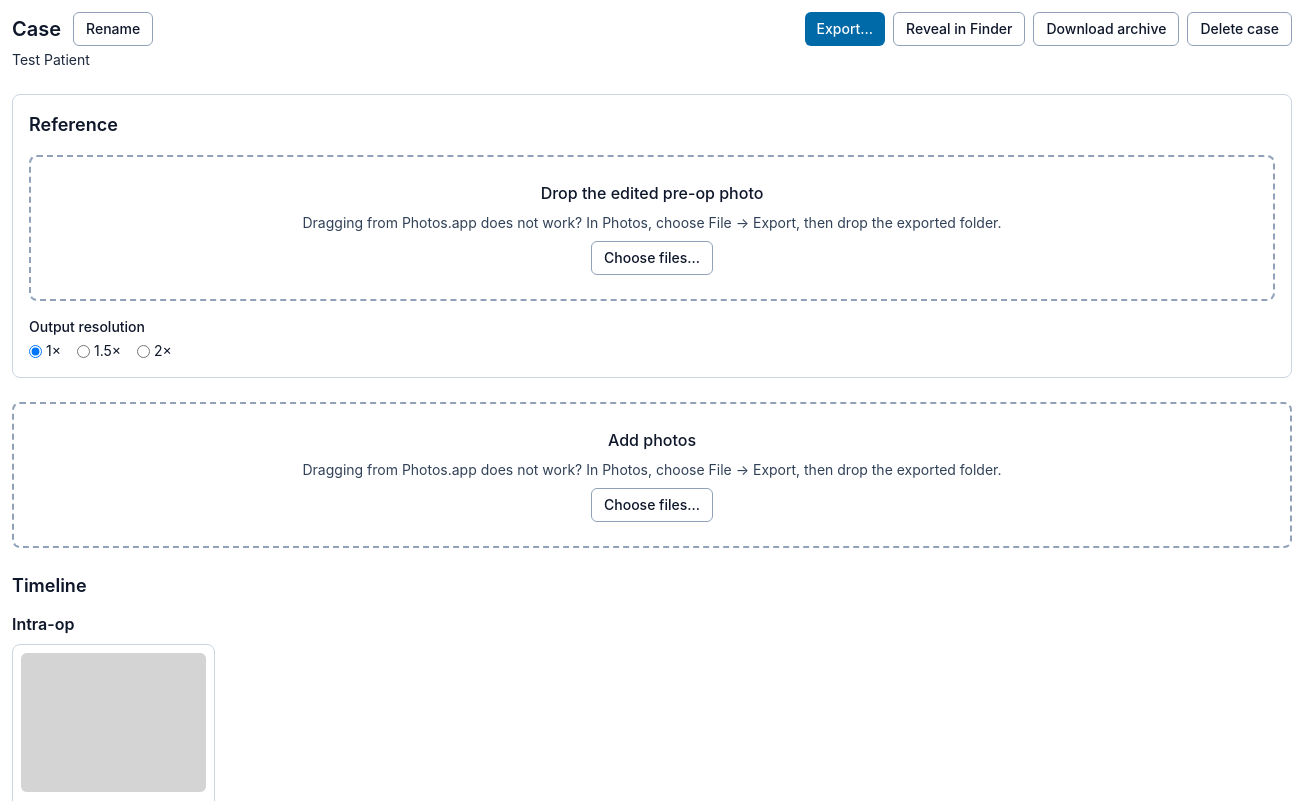
Test: CaseScreen › a title with $& is shown and sent as typed
Click the button "Rename" at (113, 29), box [73,12,153,46]
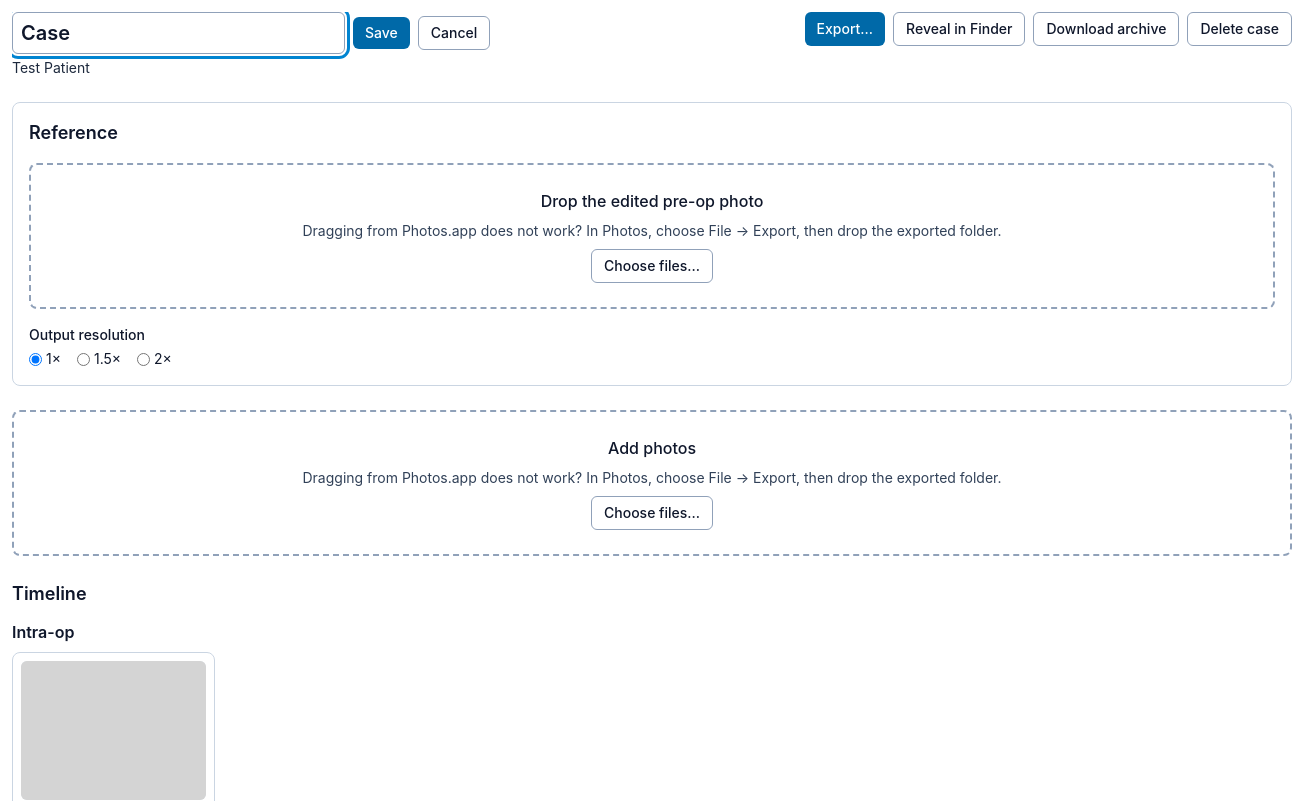
Replace the text in the field named "Case title" with "Crown $& $1" at (178, 33), box [12,12,345,54]
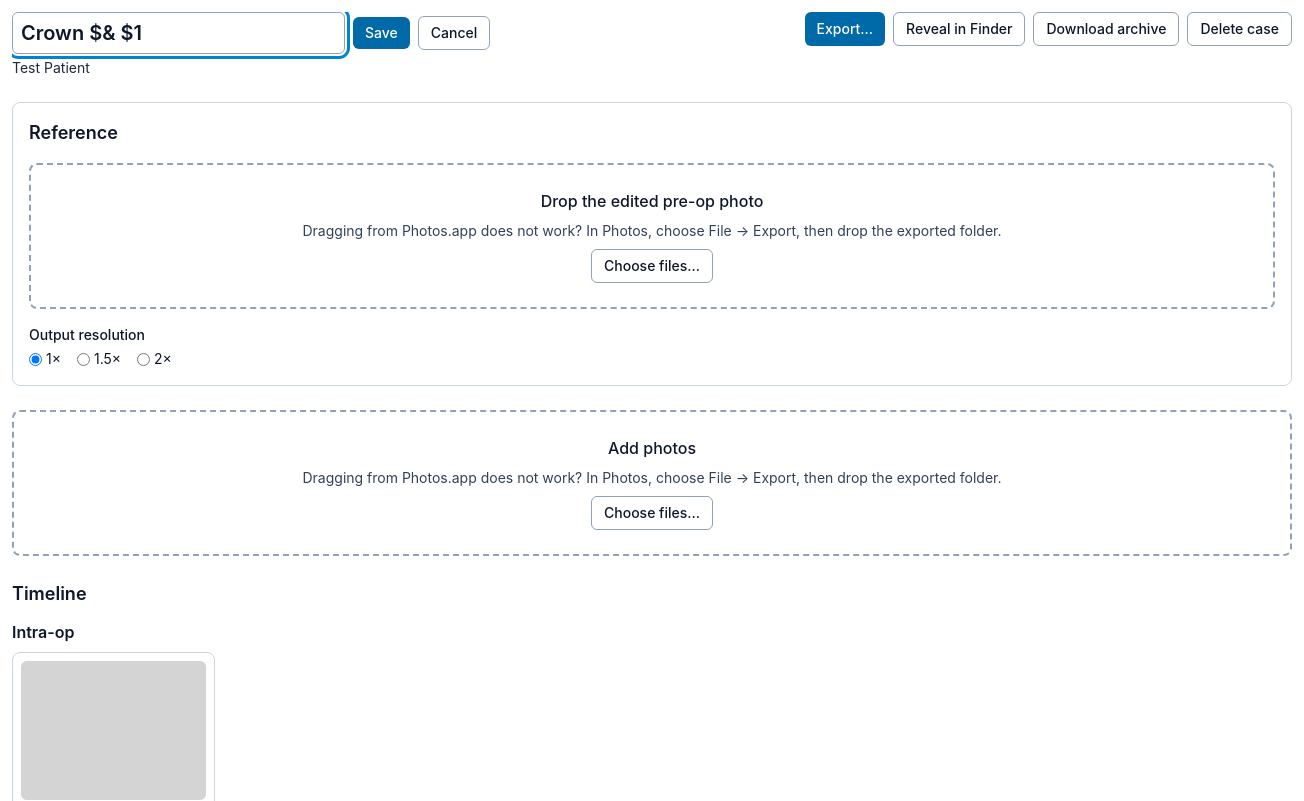
Click the button "Save" at (381, 33), box [353,17,410,49]
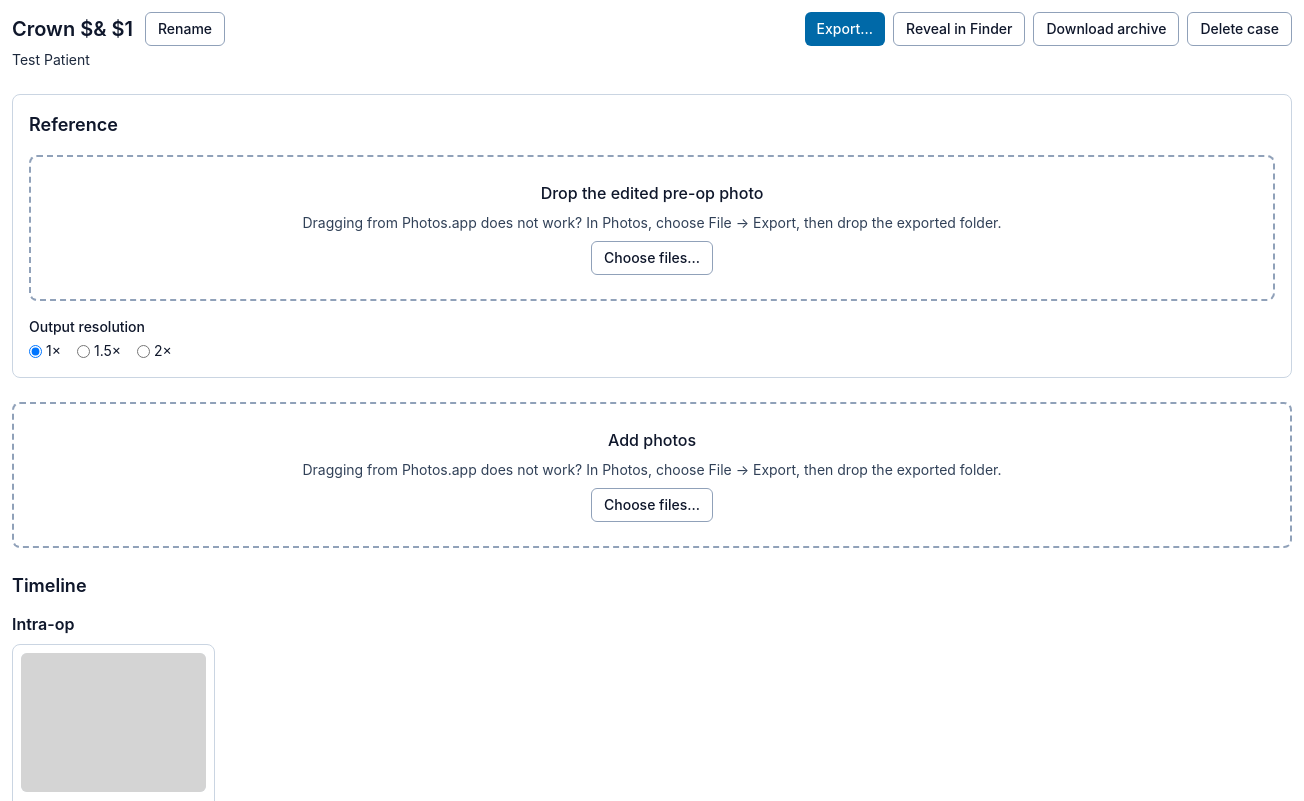
Expected: the heading "Crown $& $1" is shown, [12,15,133,43]
